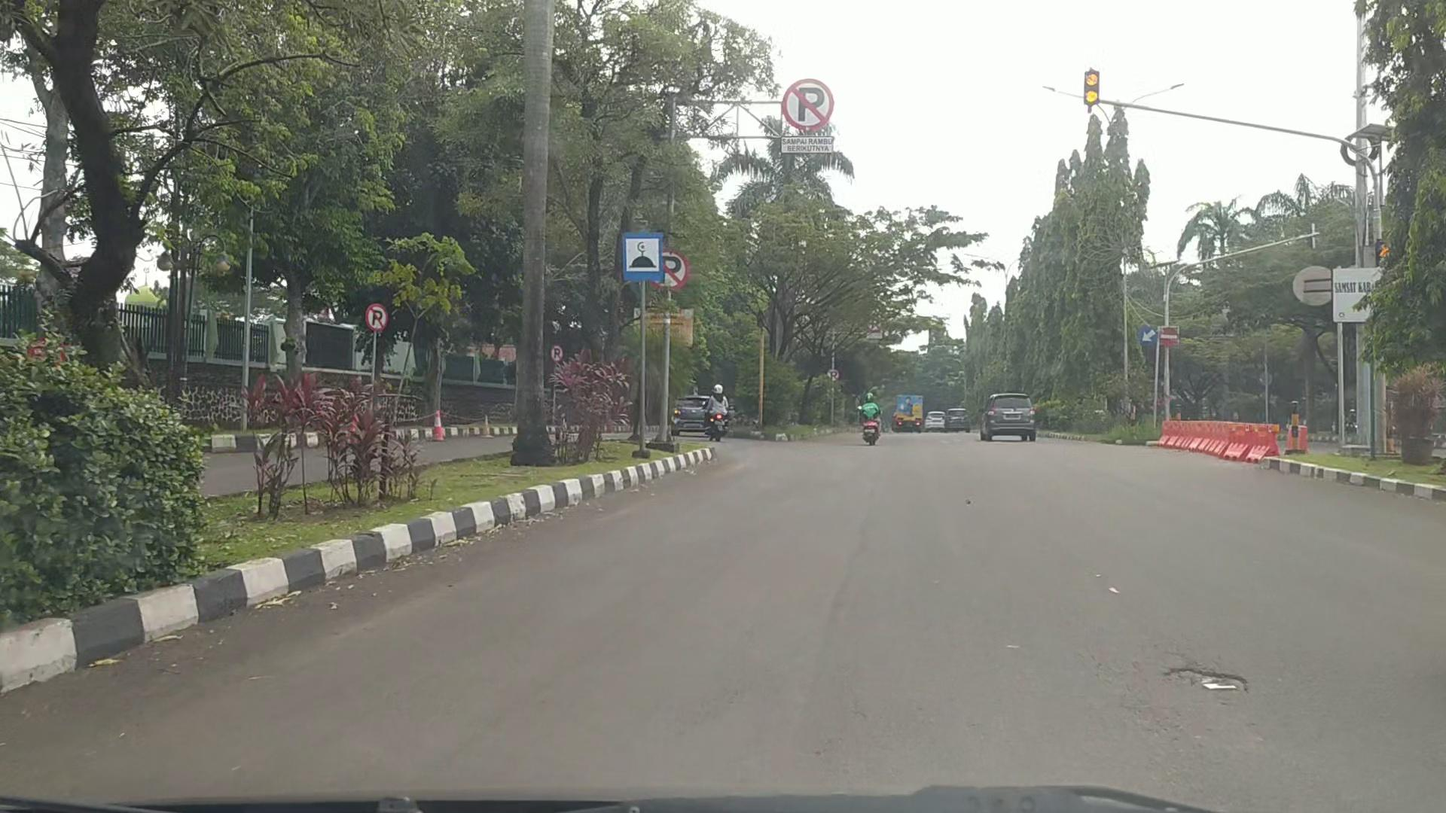pothole: (1162, 664, 1249, 694)
